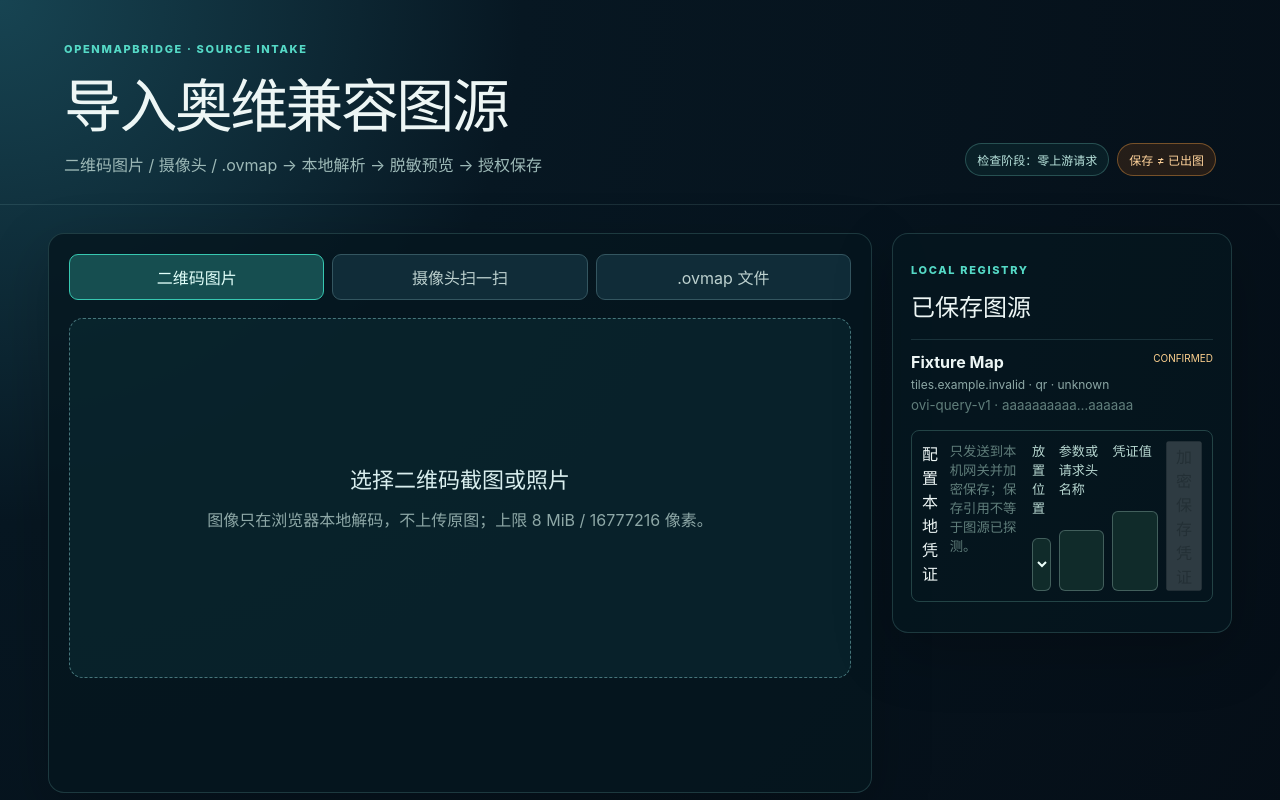
Test: lets a saved source configure a secret without echoing it after vault storage
This screenshot has width=1280, height=800.
Expected: the text "配置本地凭证" is shown, 922,444 -> 938,584
Step 1. Type "token" into the field labelled "参数或请求头名称" → {"x": 1082, "y": 560}, box 1059,530 -> 1104,591
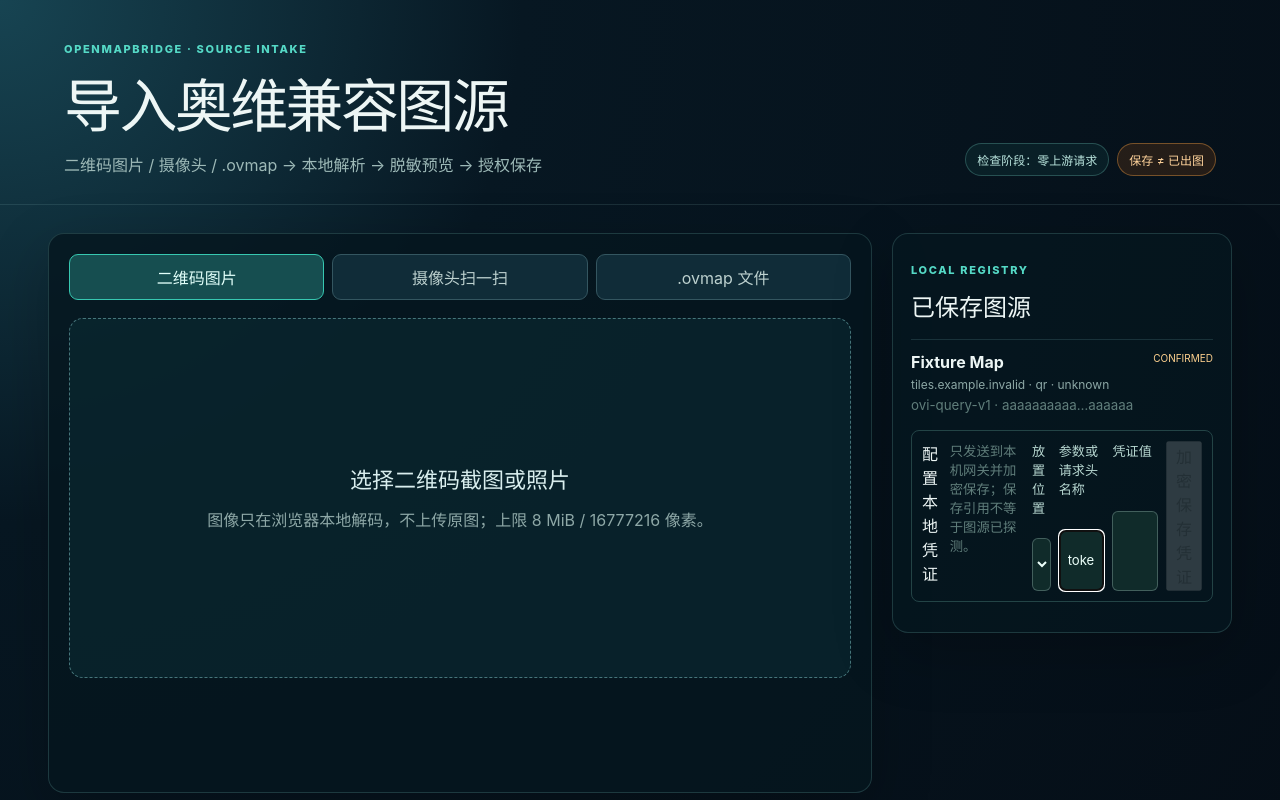
Step 2. Type "fixture-value-never-rendered" into the password field labelled "凭证值" → {"x": 1135, "y": 551}, box 1112,510 -> 1158,591
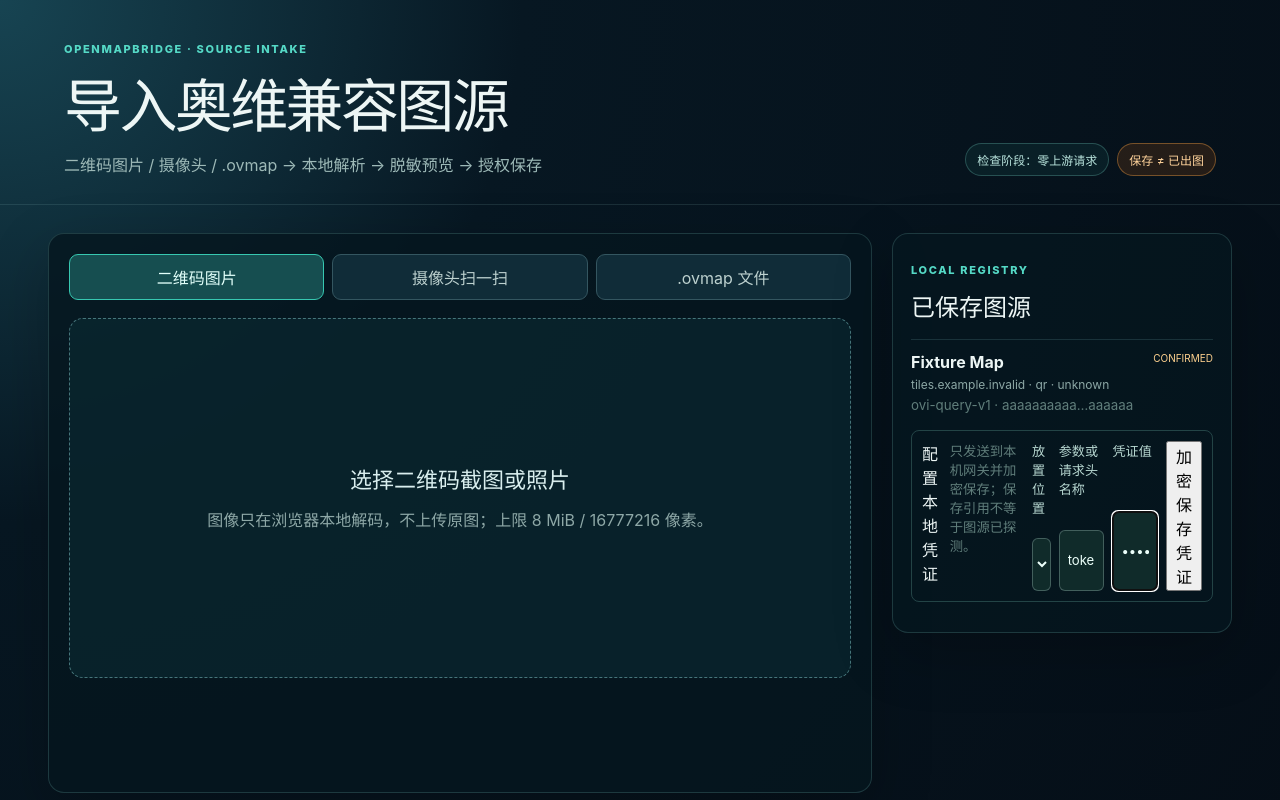
Step 3. Click the button "加密保存凭证" → {"x": 1184, "y": 516}, box 1166,441 -> 1202,591
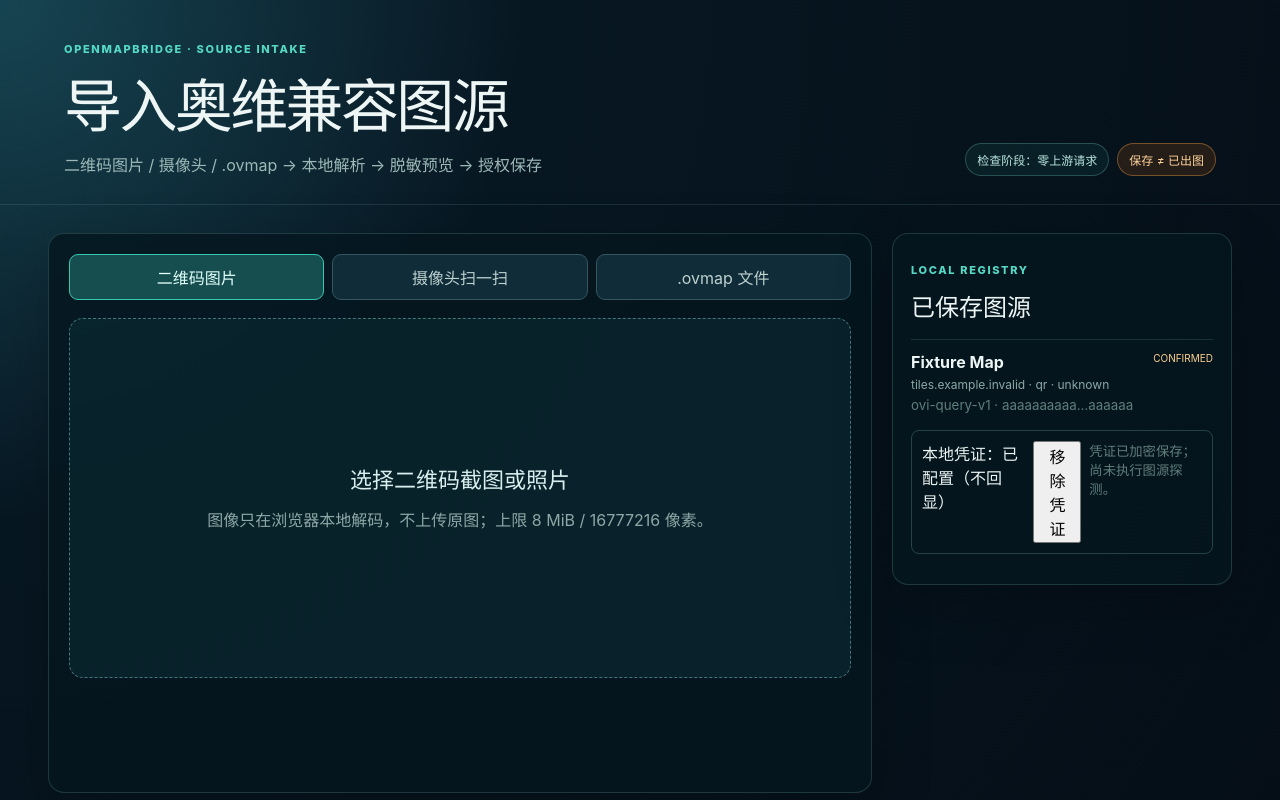
Expected: the text "本地凭证：已配置（不回显）" is shown, 922,441 -> 1026,543
